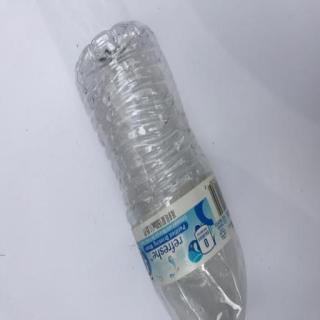Plastic-bottle: (74, 18, 250, 320)
